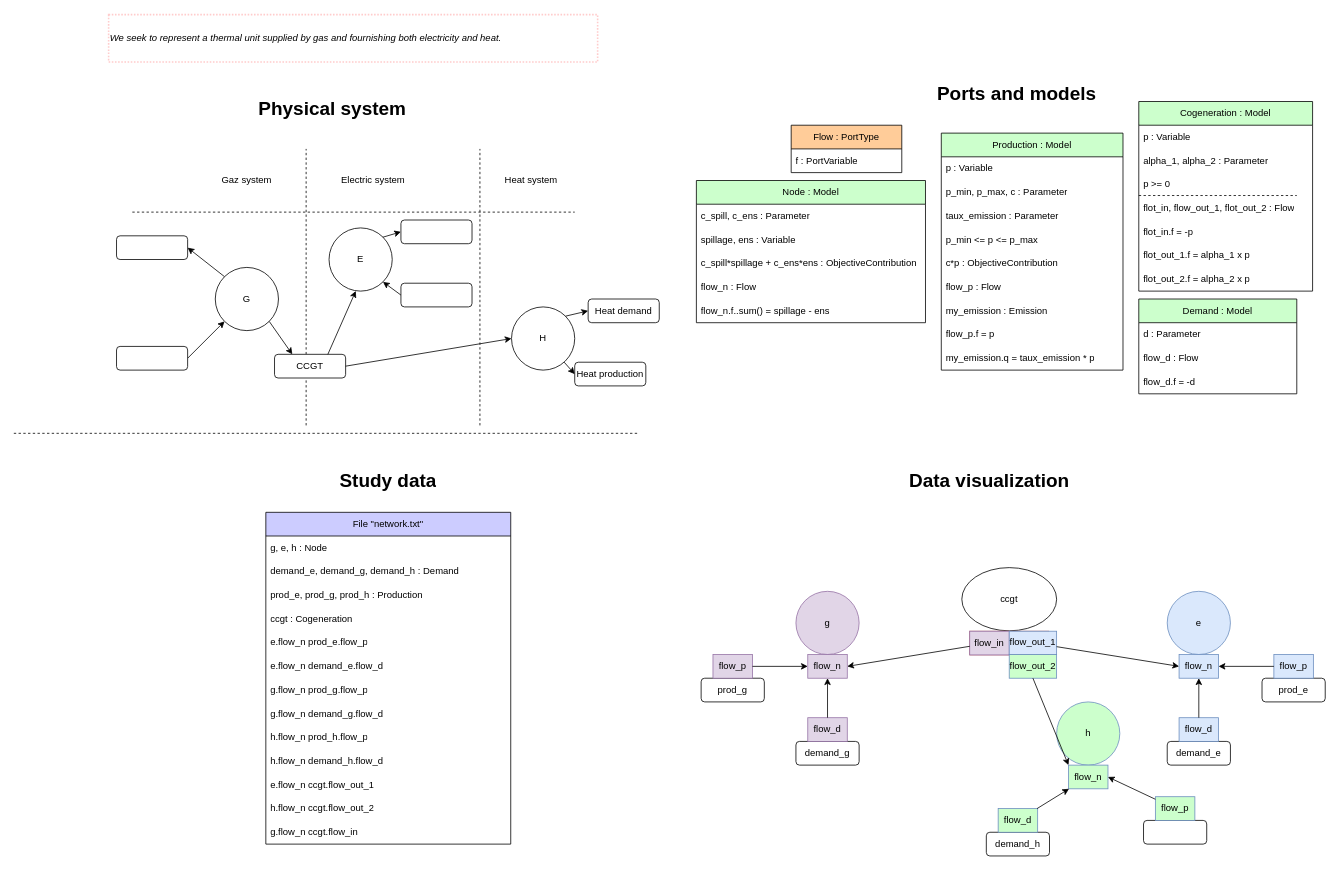
Some shapes in this 1339 by 870 pixel diagram are drawn without their labels. The shapes that lost their labels are listed below. From the top down, each one's centre as x and y in pixels, then its label:
(152,247): Gaz demand
(436,231): Elec demand
(436,294): Elec production
(152,358): Gaz production
